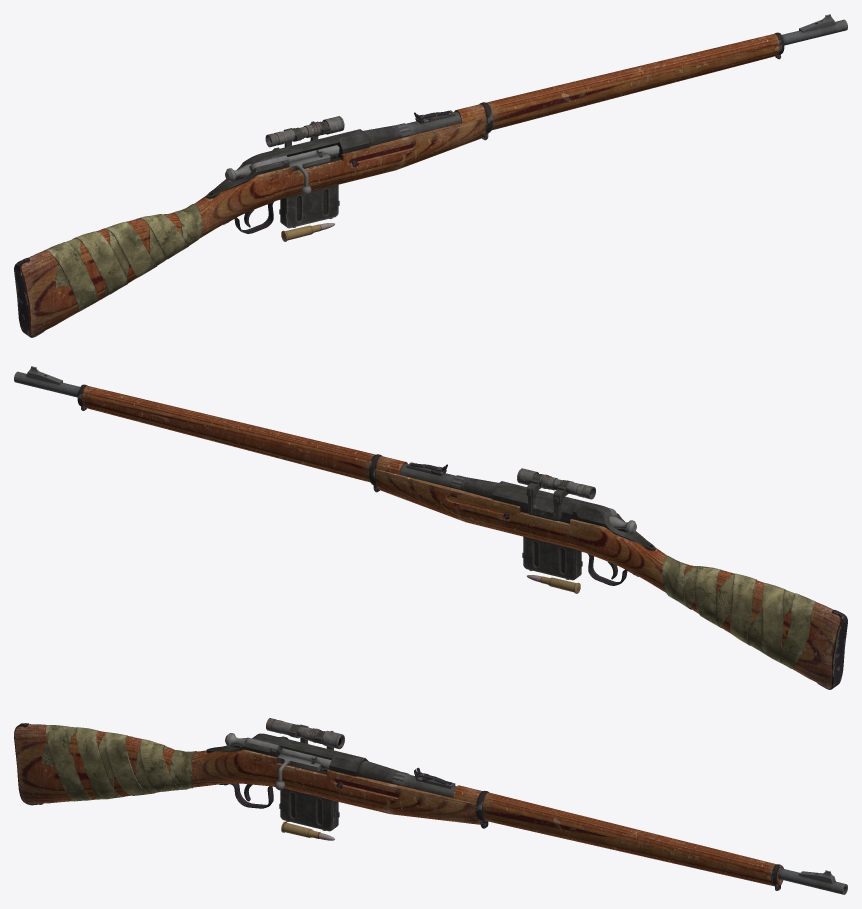
Rendered from boltrifle_ph.glb.
3 renders of one model, top to bottom at view 1: azimuth 30°, elevation 25°; view 2: azimuth 150°, elevation 25°; view 3: azimuth 330°, elevation 25°, orthographic.
Parts seen in each view (by area): view 1: bolt_action_rifle_7_62, bolt_action_rifle_7_62_wrap, bolt_action_rifle_7_62_scope, bolt_action_rifle_7_62_bolt_a; view 2: bolt_action_rifle_7_62, bolt_action_rifle_7_62_wrap, bolt_action_rifle_7_62_scope; view 3: bolt_action_rifle_7_62, bolt_action_rifle_7_62_wrap, bolt_action_rifle_7_62_scope, bolt_action_rifle_7_62_bolt_a, bolt_action_rifle_7_62_bullet_54mm, bolt_action_rifle_7_62_bolt_b.
Part boxes in pixels (x1=…): bolt_action_rifle_7_62: x1=14, y1=14, x2=847, y2=337; bolt_action_rifle_7_62_wrap: x1=44, y1=203, x2=202, y2=311; bolt_action_rifle_7_62_scope: x1=265, y1=116, x2=344, y2=147; bolt_action_rifle_7_62_bolt_a: x1=287, y1=145, x2=339, y2=194; bolt_action_rifle_7_62: x1=14, y1=366, x2=847, y2=689; bolt_action_rifle_7_62_wrap: x1=662, y1=556, x2=815, y2=668; bolt_action_rifle_7_62_scope: x1=517, y1=468, x2=595, y2=520; bolt_action_rifle_7_62: x1=14, y1=723, x2=847, y2=894; bolt_action_rifle_7_62_wrap: x1=42, y1=725, x2=197, y2=801; bolt_action_rifle_7_62_scope: x1=266, y1=718, x2=344, y2=750; bolt_action_rifle_7_62_bolt_a: x1=275, y1=748, x2=331, y2=790; bolt_action_rifle_7_62_bullet_54mm: x1=281, y1=821, x2=334, y2=840; bolt_action_rifle_7_62_bolt_b: x1=225, y1=733, x2=324, y2=770.
Bounding box in the file's own units: 1.23 × 0.2045 × 0.0666.
Materials: 3 (3 with a texture image).
